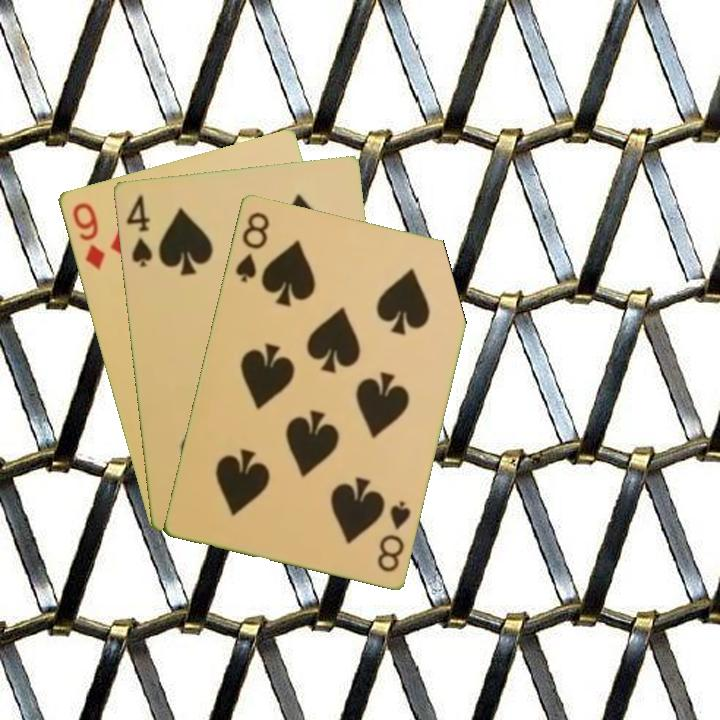4s: (122, 191, 155, 270)
8s: (373, 496, 414, 575), (231, 208, 272, 285)
9d: (68, 199, 107, 273)
